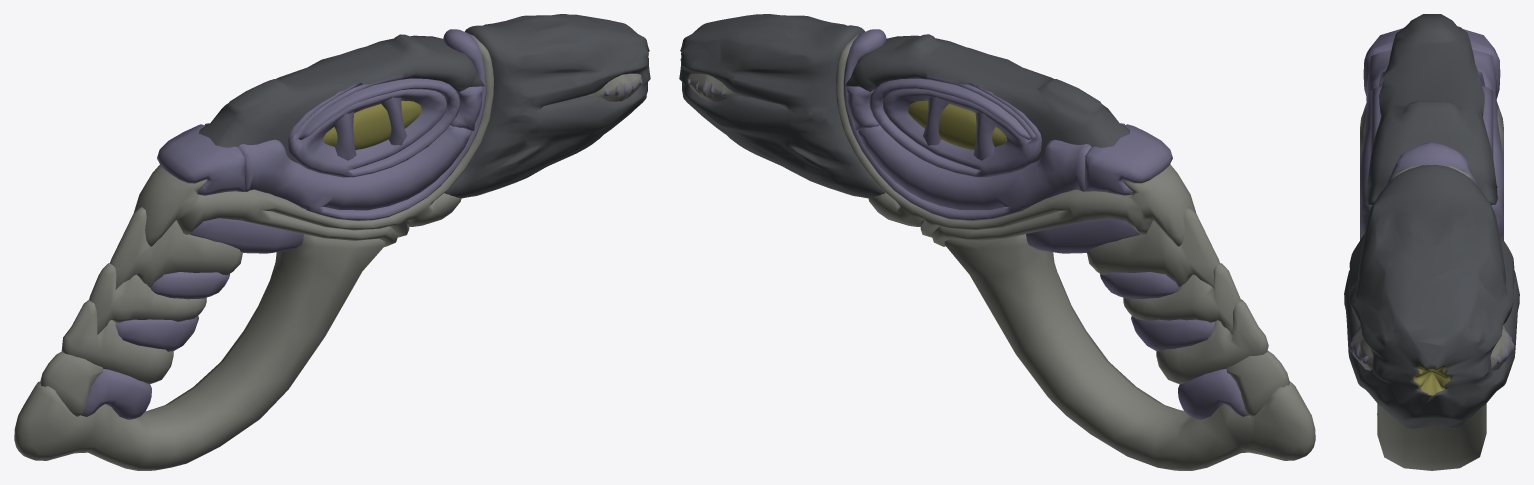
The model's file is WraithStunner.fbx.
3 renders of one model, left to right at view 1: azimuth 30°, elevation 25°; view 2: azimuth 150°, elevation 25°; view 3: azimuth 270°, elevation 25°, orthographic. The views are drawn at different scales.
Parts seen in each view (by area): view 1: Dark; view 2: Dark; view 3: Dark.
Part boxes in pixels (x1=…): Dark: x1=14, y1=14, x2=650, y2=470; Dark: x1=679, y1=14, x2=1315, y2=470; Dark: x1=1344, y1=14, x2=1519, y2=470.
Bounding box in the file's own units: 44.05 × 24.19 × 7.41.
